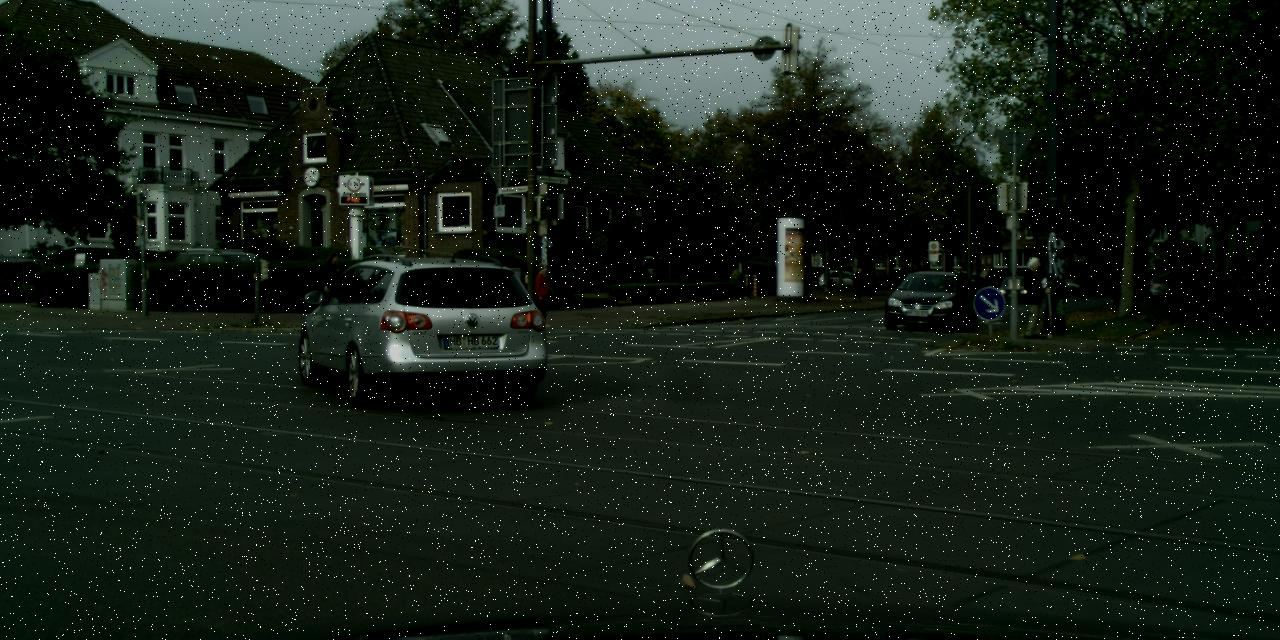ped: (1017, 256, 1051, 338), (319, 251, 345, 316), (530, 262, 556, 327), (852, 268, 864, 298)
